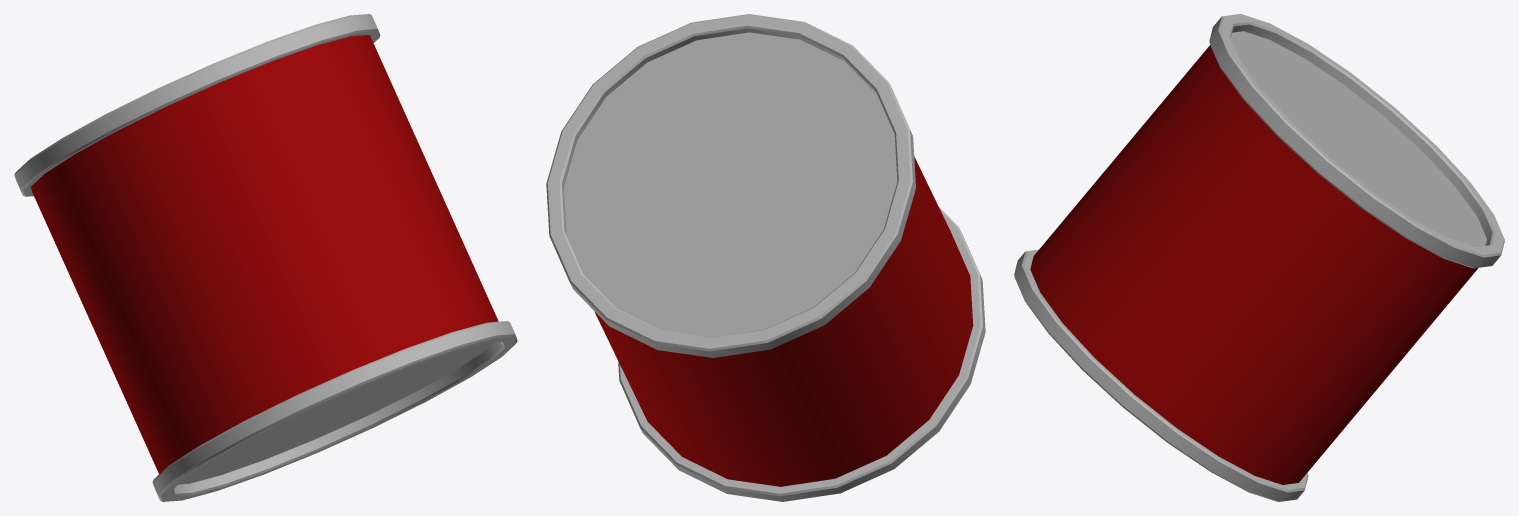
File: hightom.fbx
The picture shows the model from 3 angles, left to right: view 1: azimuth 30°, elevation 25°; view 2: azimuth 150°, elevation 25°; view 3: azimuth 270°, elevation 25°; orthographic projection. The views are drawn at different scales.
Visible parts, largest first — view 1: high_tom; view 2: high_tom; view 3: high_tom.
Part boxes in pixels (x1,y1,x2,y2): high_tom: (14,14,517,501); high_tom: (546,14,985,501); high_tom: (1014,14,1504,501).
Size of the model in its own units: 7.84 by 9.45 by 9.58.
